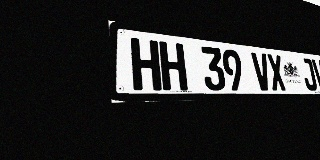3: (201, 46, 226, 90)
9: (221, 48, 245, 90)
H: (130, 38, 162, 90), (159, 41, 188, 90)
J: (300, 58, 318, 91)
V: (251, 52, 272, 90), (311, 59, 320, 91)
X: (266, 54, 287, 90)
